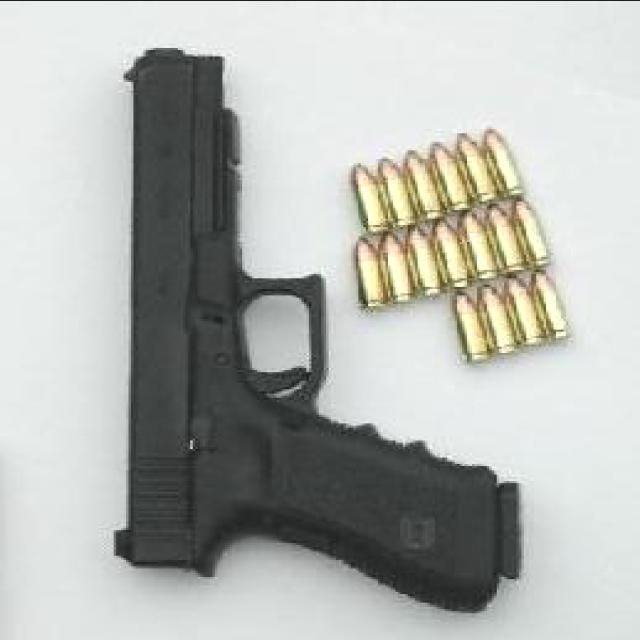handgun: (119, 53, 526, 614)
